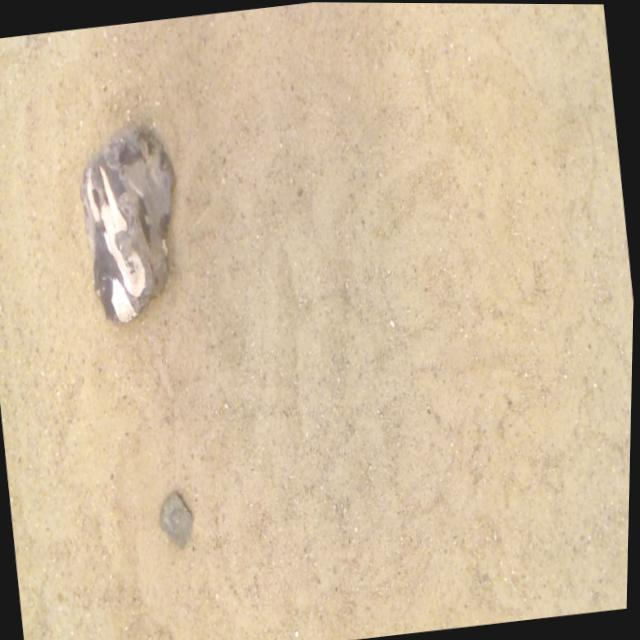rock: (80, 130, 174, 322), (161, 492, 194, 547)
